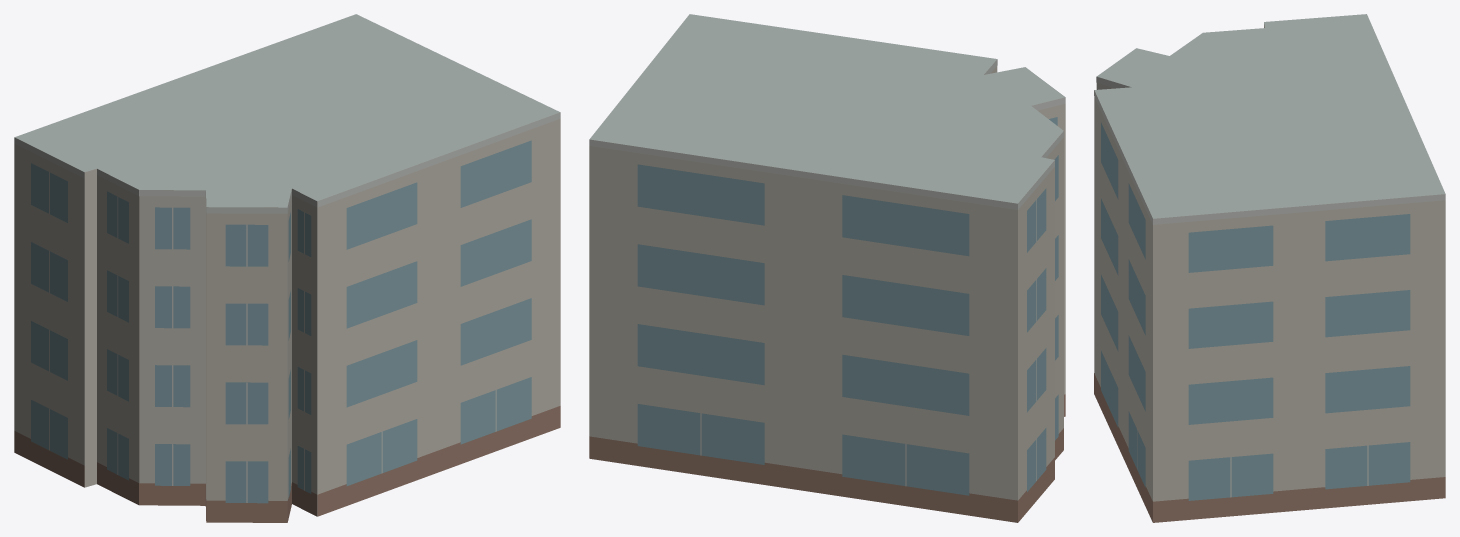
File: survey-upis-32914852.glb
3 renders of one model, left to right at view 1: azimuth 30°, elevation 25°; view 2: azimuth 150°, elevation 25°; view 3: azimuth 270°, elevation 25°, orthographic. The views are drawn at different scales.
Parts seen in each view (by area): view 1: survey-upis-32914852.tmp; view 2: survey-upis-32914852.tmp; view 3: survey-upis-32914852.tmp.
Boxes of the visible parts, x1=… form: survey-upis-32914852.tmp: x1=14, y1=14, x2=560, y2=522; survey-upis-32914852.tmp: x1=589, y1=14, x2=1065, y2=522; survey-upis-32914852.tmp: x1=1094, y1=14, x2=1445, y2=522.
Size of the model in its own units: 17.63 by 12.2 by 12.79.
